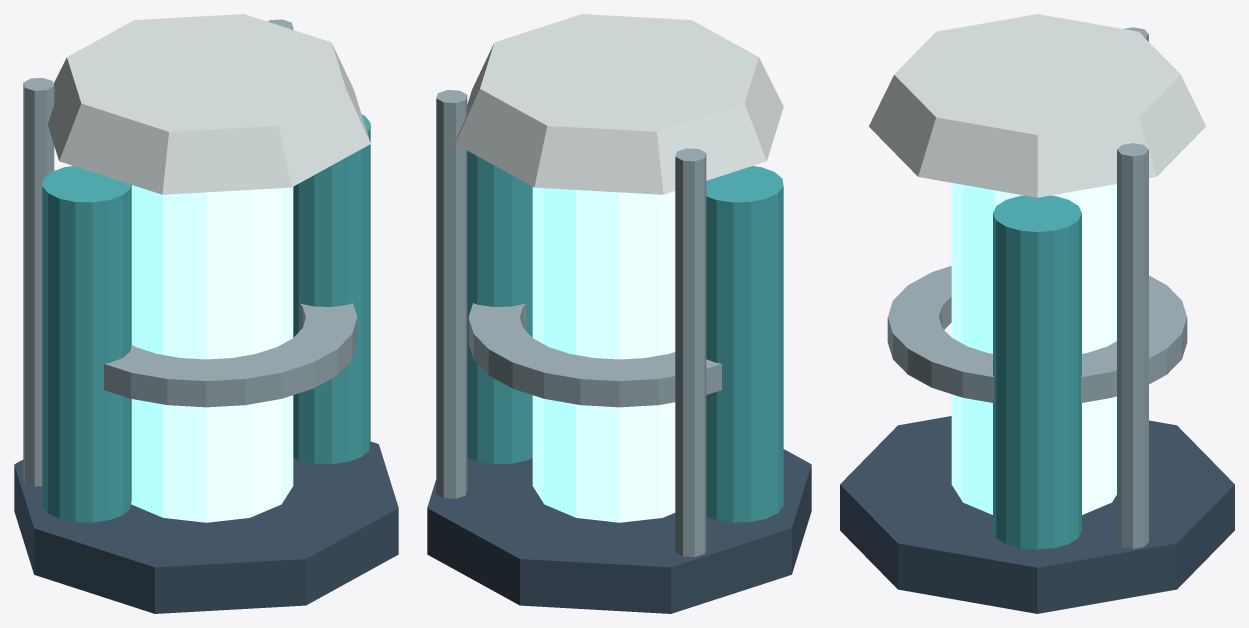
Rendered from Field_Core.glb.
The picture shows the model from 3 angles, left to right: view 1: azimuth 30°, elevation 25°; view 2: azimuth 150°, elevation 25°; view 3: azimuth 270°, elevation 25°; orthographic projection.
Visible parts, largest first — view 1: accent, shell, light, dark, metal; view 2: shell, accent, light, metal, dark; view 3: shell, dark, accent, metal, light.
Boxes of the visible parts, x1=… form: accent: x1=42, y1=114, x2=370, y2=522; shell: x1=47, y1=14, x2=370, y2=194; light: x1=131, y1=185, x2=293, y2=522; dark: x1=14, y1=441, x2=398, y2=613; metal: x1=23, y1=19, x2=357, y2=486; shell: x1=455, y1=14, x2=783, y2=194; accent: x1=467, y1=151, x2=783, y2=522; light: x1=532, y1=187, x2=675, y2=522; metal: x1=436, y1=90, x2=721, y2=556; dark: x1=427, y1=449, x2=811, y2=613; shell: x1=869, y1=14, x2=1205, y2=197; dark: x1=840, y1=416, x2=1234, y2=613; accent: x1=993, y1=195, x2=1081, y2=549; metal: x1=887, y1=27, x2=1187, y2=548; light: x1=951, y1=183, x2=1116, y2=514.
Bounding box in the file's own units: 1.24 × 1.58 × 1.24.
